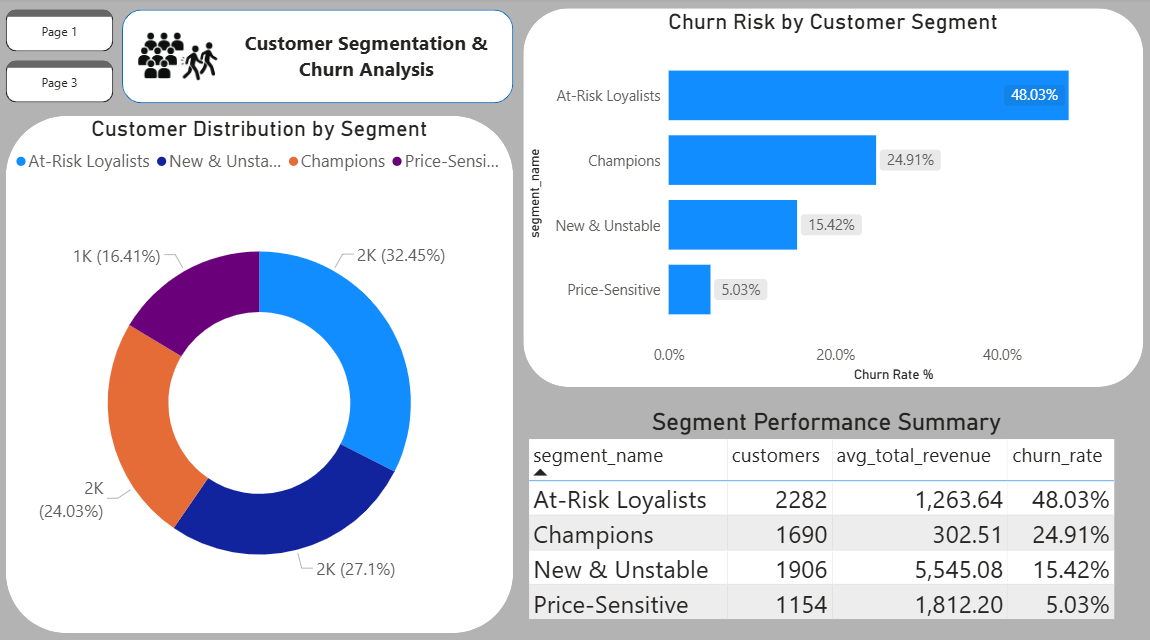

The dashboard page shown, as its layout file describes it:
{"tool":"powerbi","page":{"name":"Page 2","canvas":[1280,720],"ordinal":1},"visuals":[{"type":"shape","box":[15.1,130.4,557.1,568.1],"z":0},{"type":"donutChart","title":"Customer Distribution by Segment","fields":{"Y":["Measure.Total Customers"],"Category":["customer_features.segment_name"]},"box":[15.1,130.4,557.1,568.1],"z":1000},{"type":"shape","box":[583.2,12.3,680.6,415.8],"z":2000},{"type":"clusteredBarChart","title":"Churn Risk by Customer Segment","fields":{"Y":["Measure.Churn Rate %"],"Category":["customer_features.segment_name"]},"box":[583.2,12.3,680.6,415.8],"z":3000},{"type":"tableEx","title":"Segment Performance Summary","fields":{"Values":["segment_profile.segment_name","segment_profile.customers","segment_profile.avg_total_revenue","segment_profile.churn_rate"]},"box":[583.2,450.1,665.5,248.4],"z":4000},{"type":"shape","box":[142.7,13.7,429.5,102.9],"z":5000},{"type":"pageNavigator","box":[15.1,13.7,118,102.9],"z":6000},{"type":"textbox","box":[263.5,30.2,295,72.7],"z":6001},{"type":"image","box":[152.3,13.7,101.5,100.2],"z":6002}]}

Visuals, with their boxes in screenshot pixels (x1, y1, x2, y2), scaled from the page's 1280x720 canvas onto the 1150x640 screenshot:
shape: x1=14, y1=116, x2=514, y2=621
"Customer Distribution by Segment" donutChart: x1=14, y1=116, x2=514, y2=621
shape: x1=524, y1=11, x2=1135, y2=381
"Churn Risk by Customer Segment" clusteredBarChart: x1=524, y1=11, x2=1135, y2=381
"Segment Performance Summary" tableEx: x1=524, y1=400, x2=1122, y2=621
shape: x1=128, y1=12, x2=514, y2=104
pageNavigator: x1=14, y1=12, x2=120, y2=104
textbox: x1=237, y1=27, x2=502, y2=91
image: x1=137, y1=12, x2=228, y2=101
